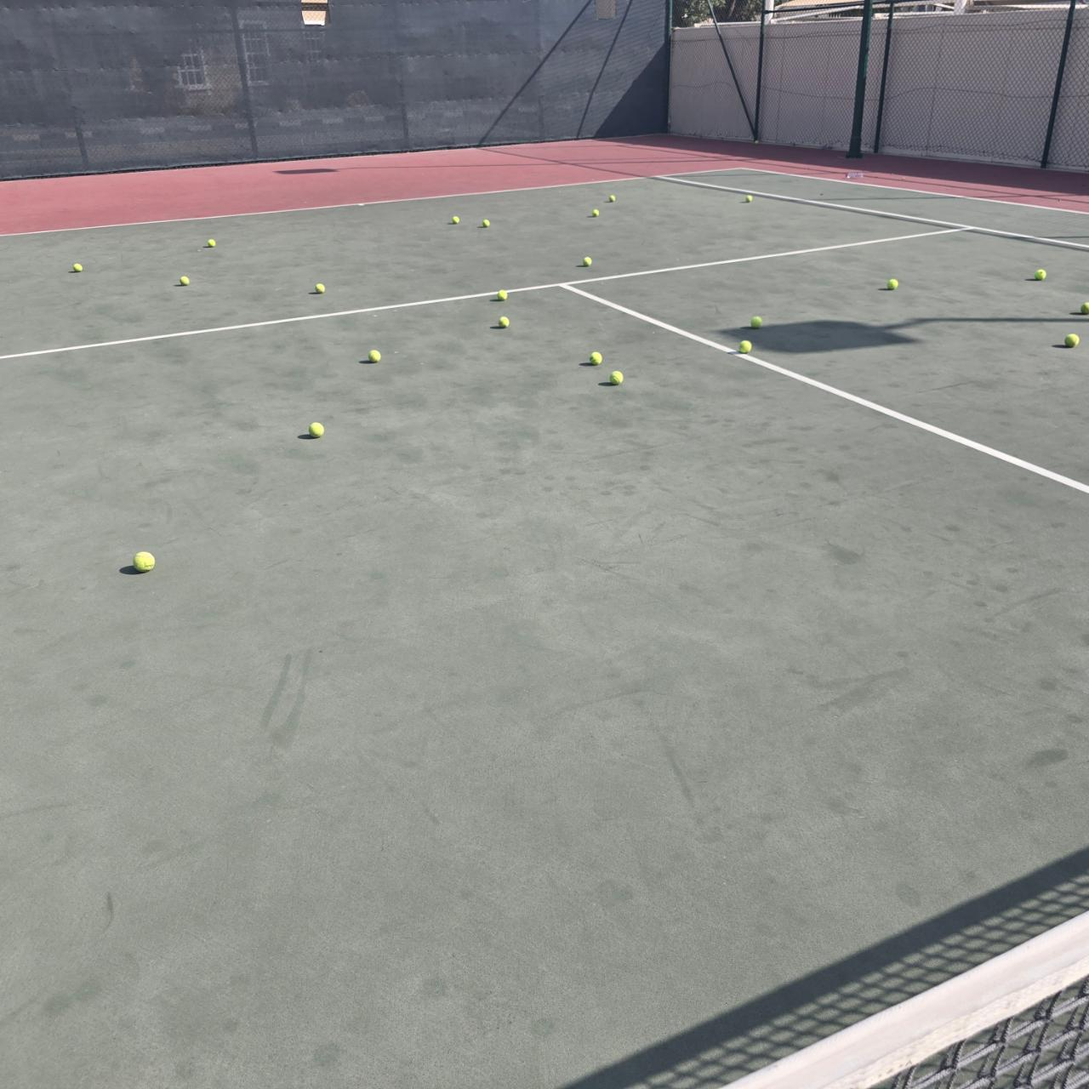tennis-ball: (132, 549, 156, 572), (308, 419, 324, 436), (609, 368, 624, 384), (1064, 333, 1080, 348), (737, 338, 751, 353), (589, 350, 602, 364), (497, 314, 510, 328), (368, 347, 380, 362), (1034, 266, 1046, 280), (314, 281, 326, 294), (751, 316, 763, 329), (496, 288, 508, 300), (887, 277, 898, 290), (180, 275, 191, 286), (1080, 301, 1089, 314), (583, 256, 593, 267), (207, 239, 217, 248), (73, 263, 82, 272), (482, 219, 491, 228), (451, 216, 460, 224), (745, 195, 753, 204), (609, 195, 616, 202), (593, 209, 599, 217), (755, 141, 759, 144)
